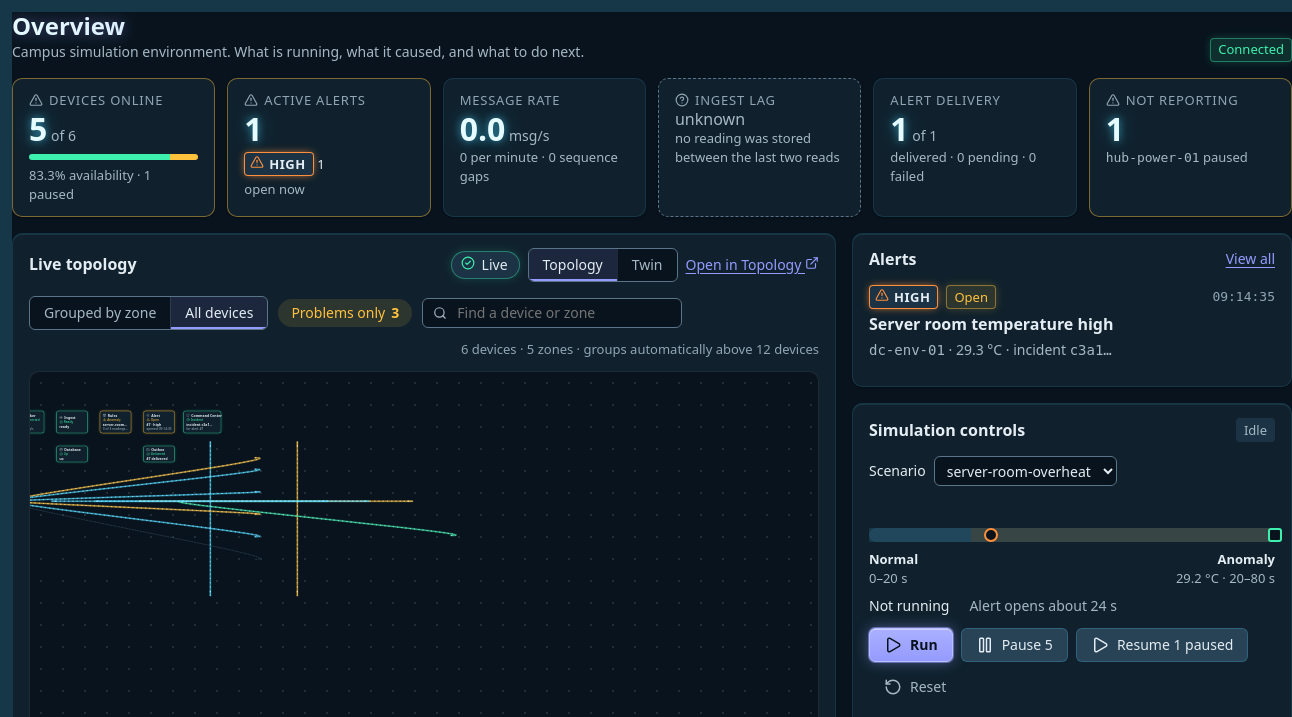
the controls › say what the simulator refused, on the controls
The image size is (1292, 717).
Click the button "Run" at (911, 646), box [869,628,953,662]
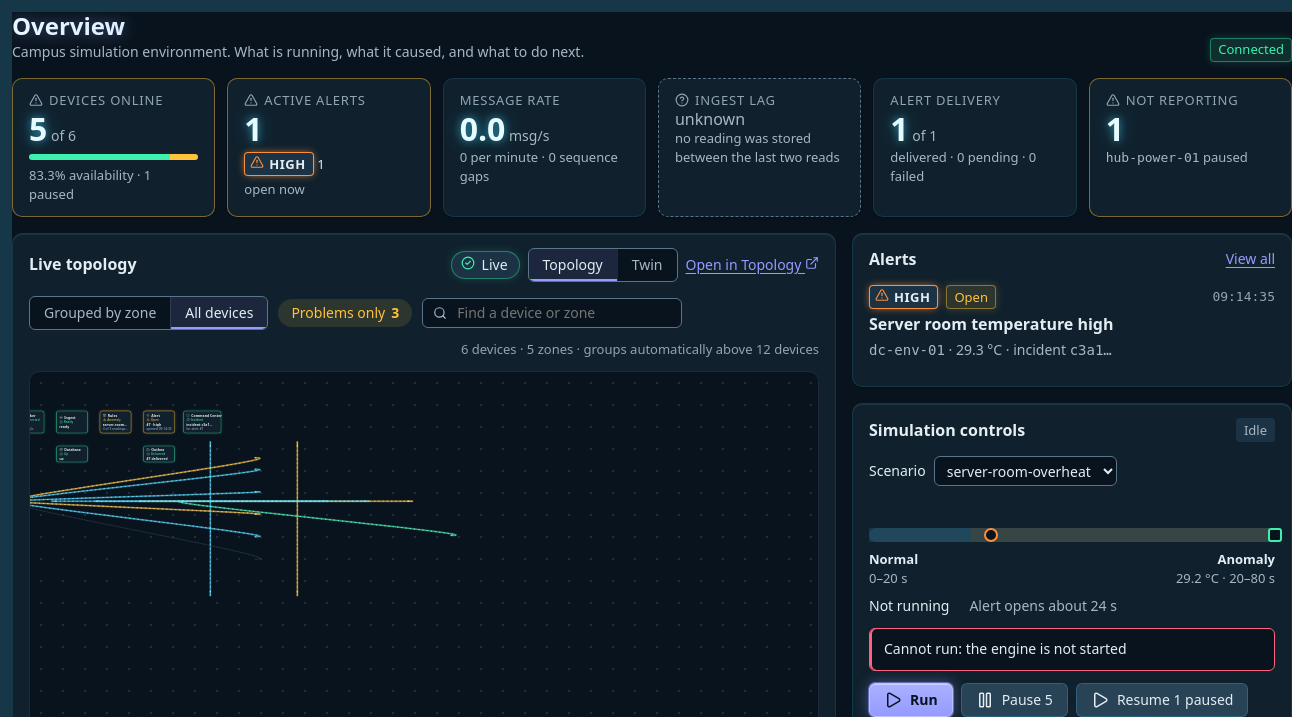
Expected: the message reads "Cannot run: the engine is not started", [884,640,1127,658]
